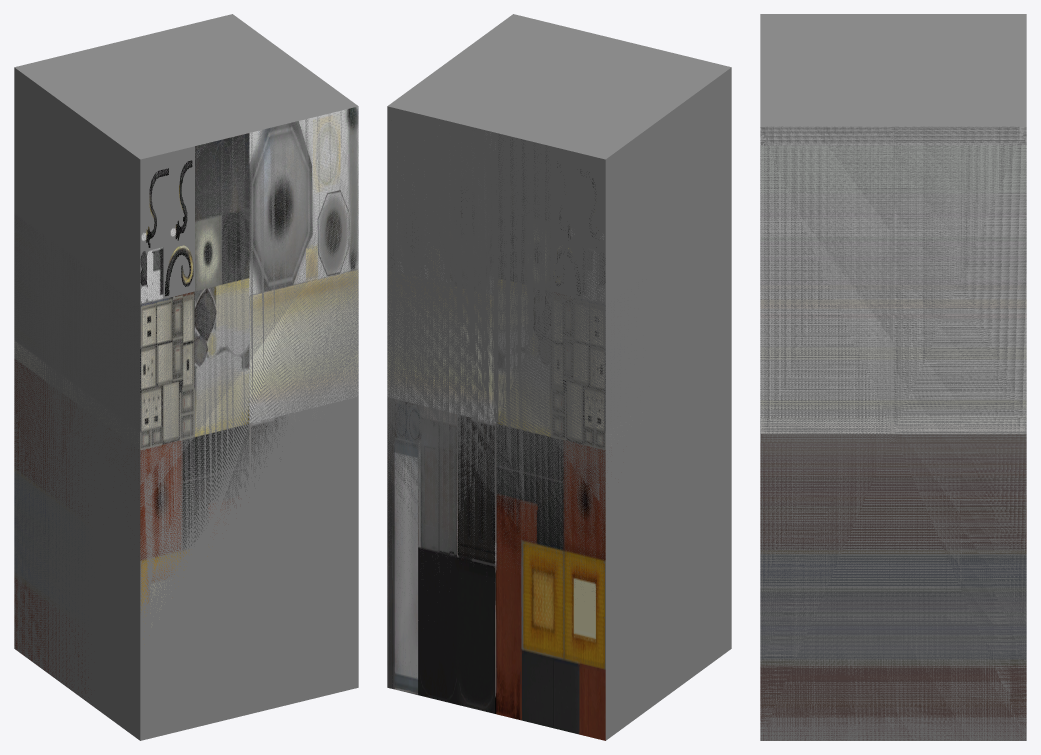
File: hanging_light.FBX
The picture shows the model from 3 angles, left to right: view 1: azimuth 30°, elevation 25°; view 2: azimuth 150°, elevation 25°; view 3: azimuth 270°, elevation 25°; orthographic projection. The views are drawn at different scales.
Visible parts, largest first — view 1: bounds, colbox-1; view 2: bounds, colbox-1; view 3: bounds, colbox-1.
Part boxes in pixels (<box>): bounds: <box>14,14,358,740</box>; colbox-1: <box>14,106,358,697</box>; bounds: <box>387,14,731,740</box>; colbox-1: <box>387,133,636,740</box>; bounds: <box>760,14,1026,740</box>; colbox-1: <box>760,126,1026,740</box>.
Bounding box in the file's own units: 27.17 × 69.13 × 27.17.
